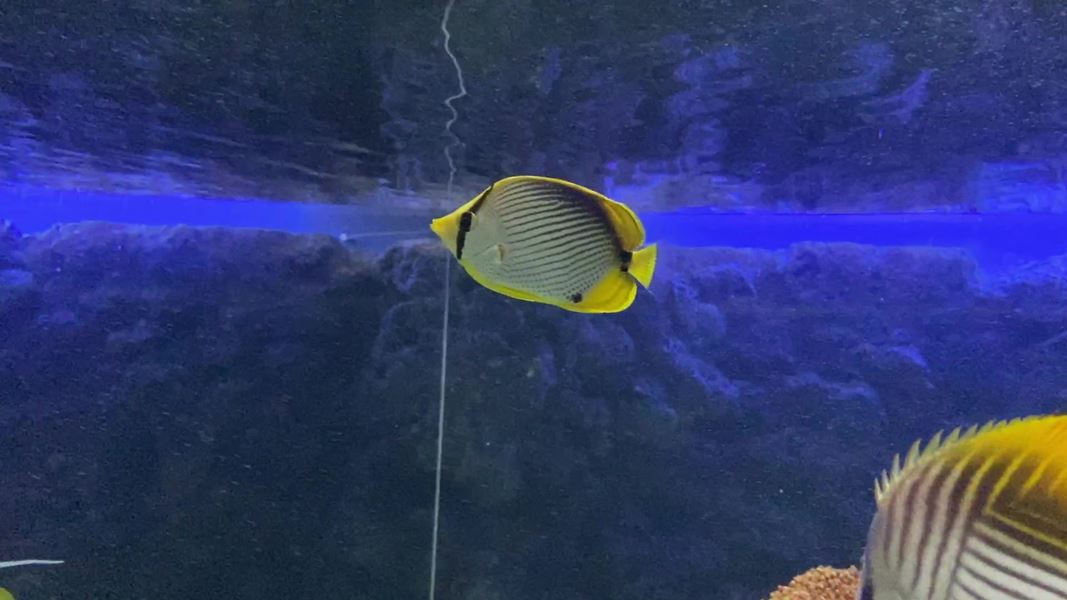Black-backed butterflyfish: (423, 167, 682, 328)
